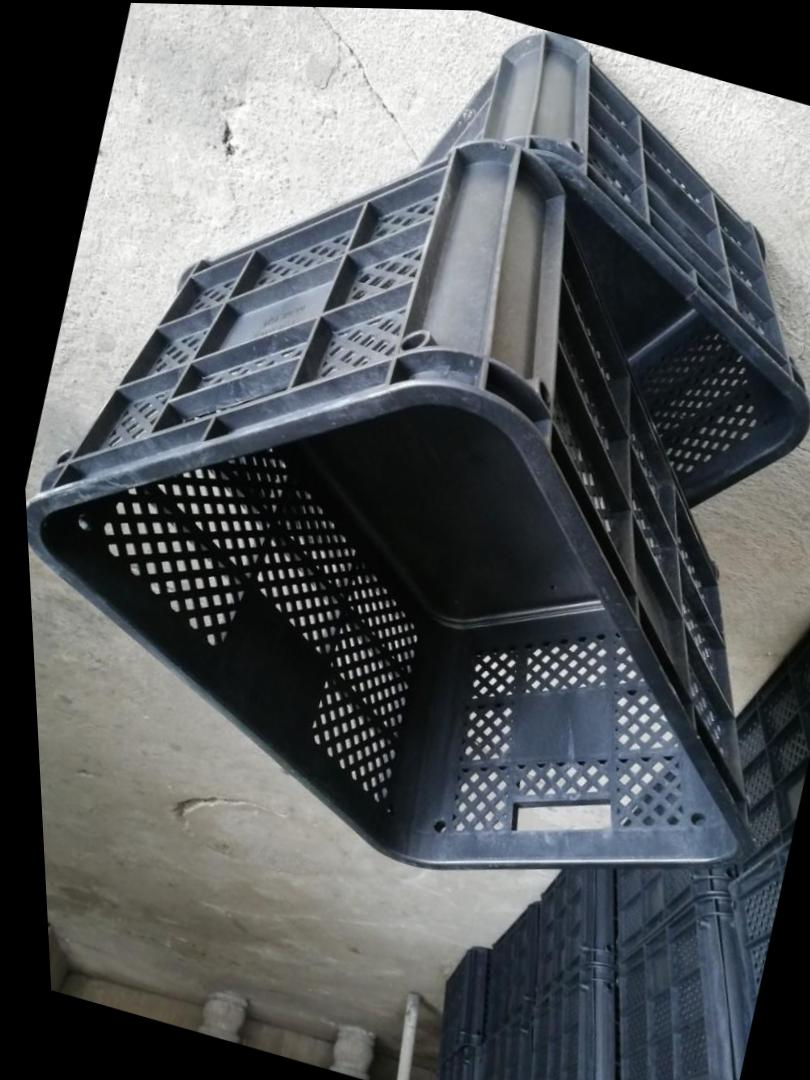plastic: (30, 6, 809, 1074)
